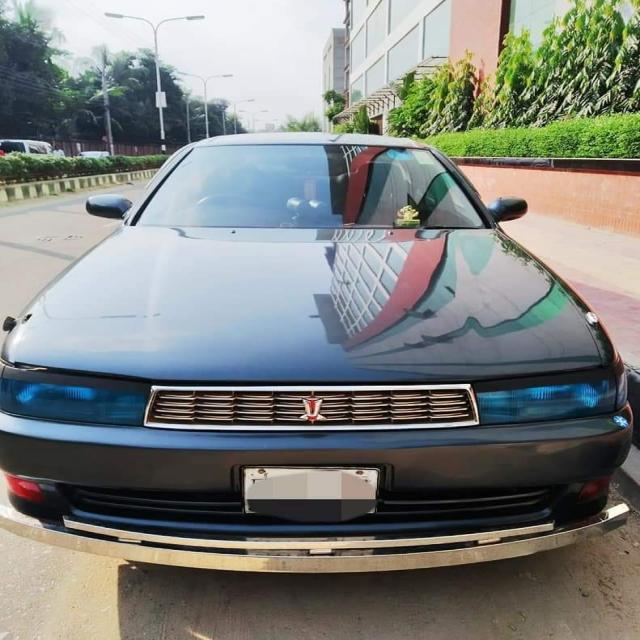blue: (8, 101, 640, 563)
